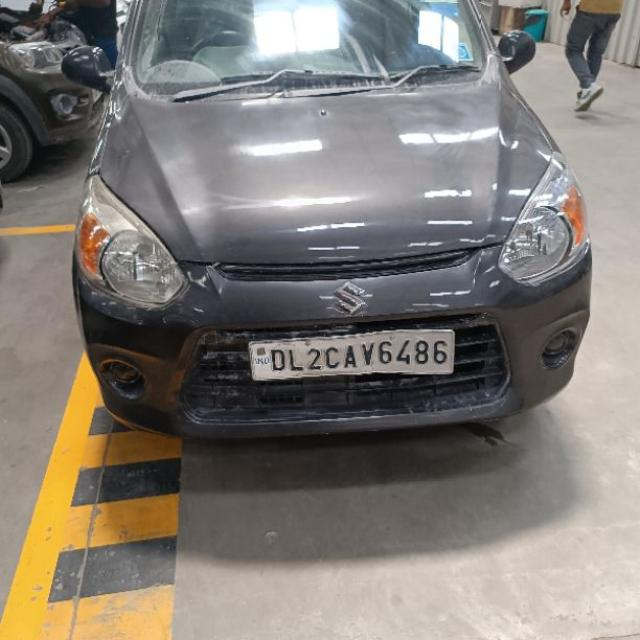license_plate: (247, 327, 455, 382)
